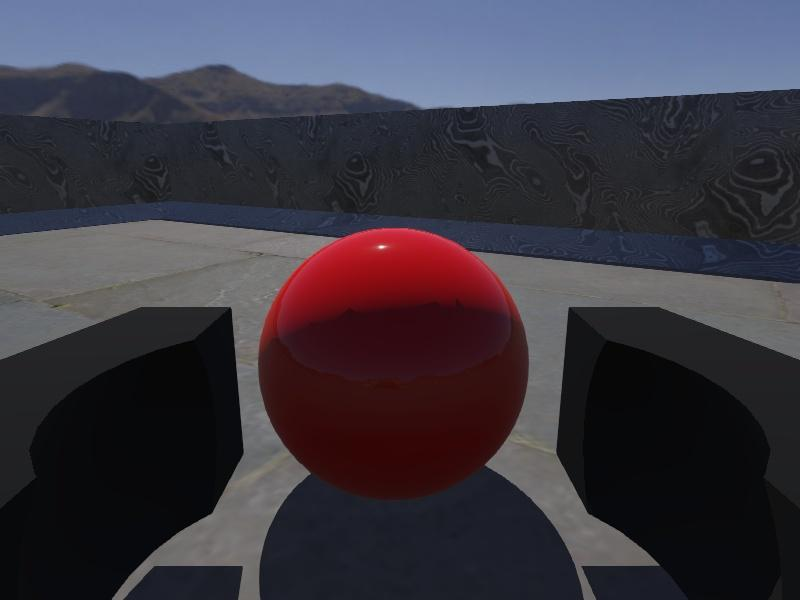red ball: (257, 226, 530, 504)
